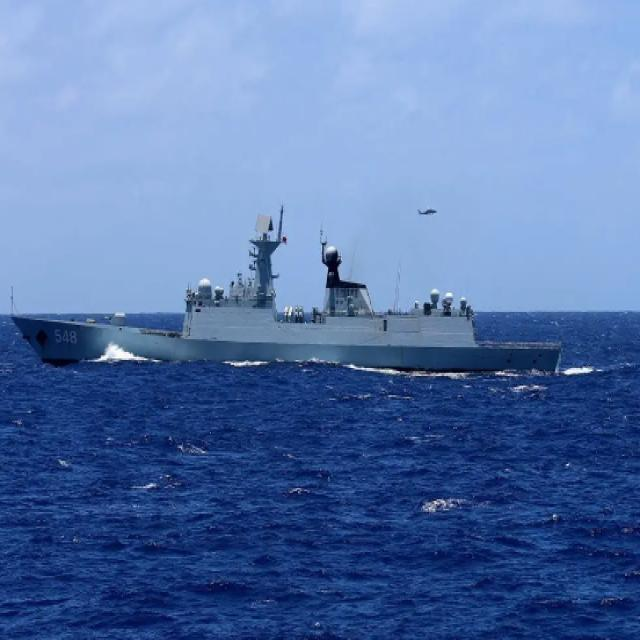navalvessels: (10, 205, 565, 388)
